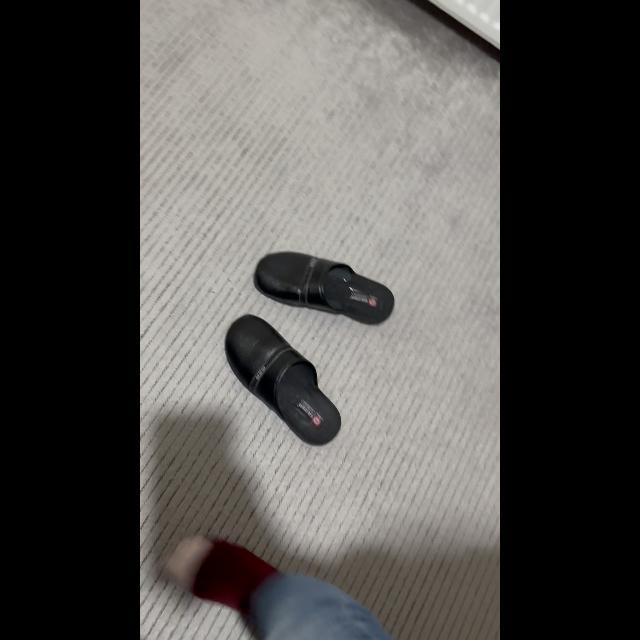slipper: (219, 310, 349, 450), (251, 245, 399, 328)
